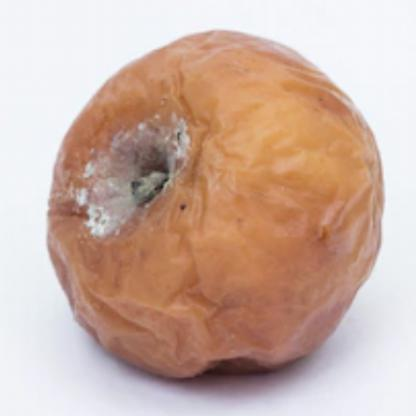Rotten Apple: (49, 32, 384, 374)
